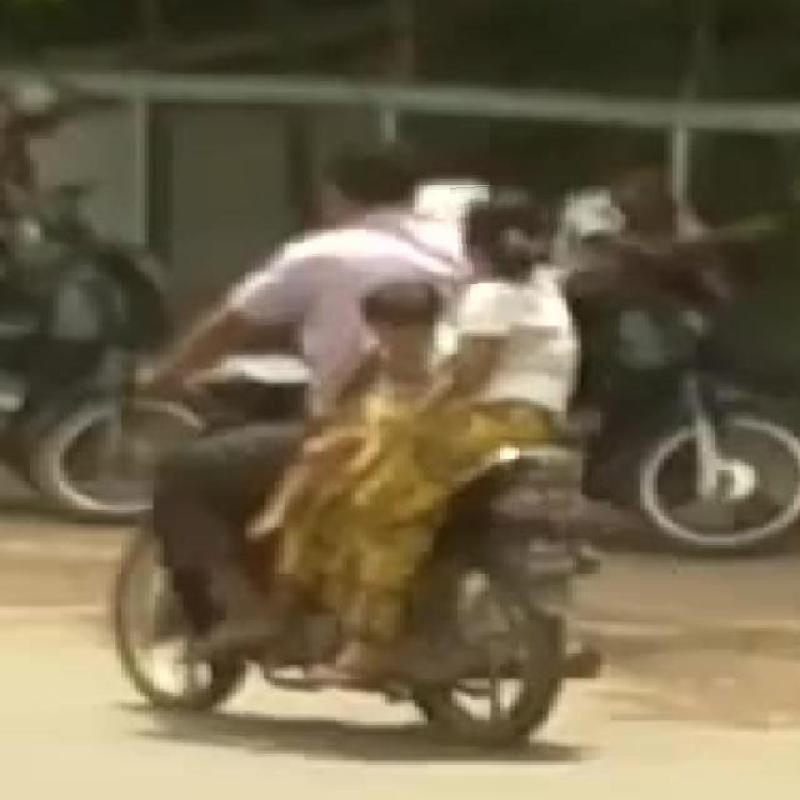nohelmet: (451, 183, 578, 282)
